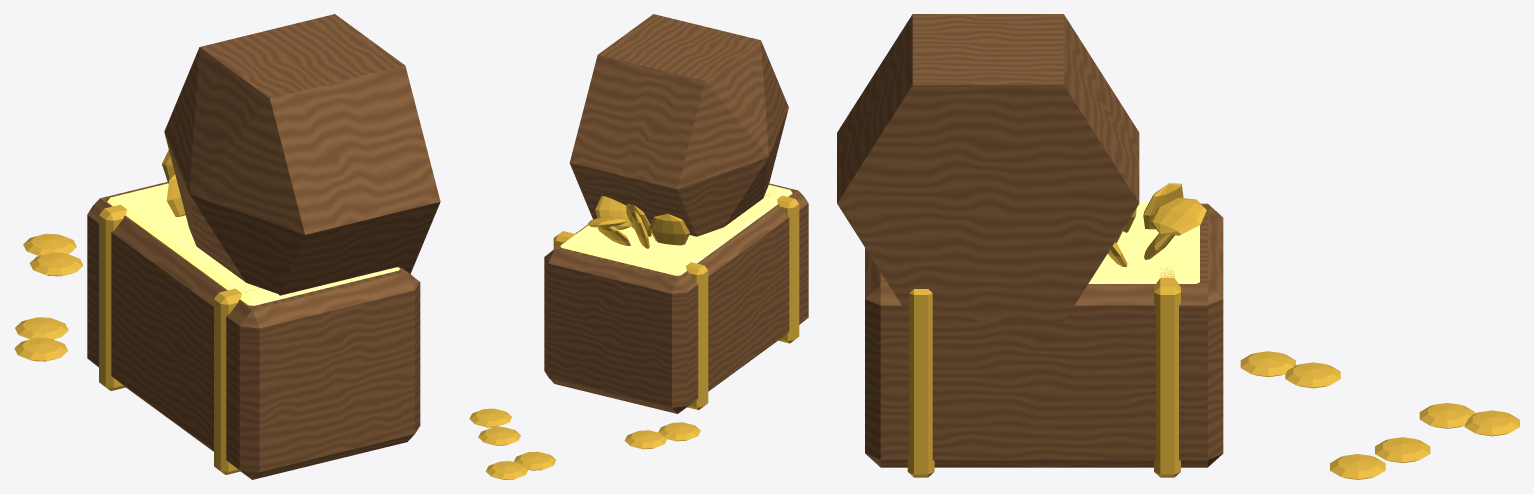
The model's file is TreasureChest.glb.
The picture shows the model from 3 angles, left to right: view 1: azimuth 30°, elevation 25°; view 2: azimuth 150°, elevation 25°; view 3: azimuth 270°, elevation 25°; orthographic projection. The views are drawn at different scales.
Visible parts, largest first — view 1: TreasureChest, TreasureChest_Glow; view 2: TreasureChest, TreasureChest_Glow; view 3: TreasureChest, TreasureChest_Glow.
Part boxes in pixels (x1,y1,x2,y2): TreasureChest: (14,14,440,479); TreasureChest_Glow: (107,183,399,305); TreasureChest: (469,14,808,479); TreasureChest_Glow: (560,185,792,275); TreasureChest: (837,14,1519,479); TreasureChest_Glow: (1088,202,1199,283).
Bounding box in the file's own units: 1.35 × 1.94 × 3.05.
Materials: 2 (1 with a texture image).
